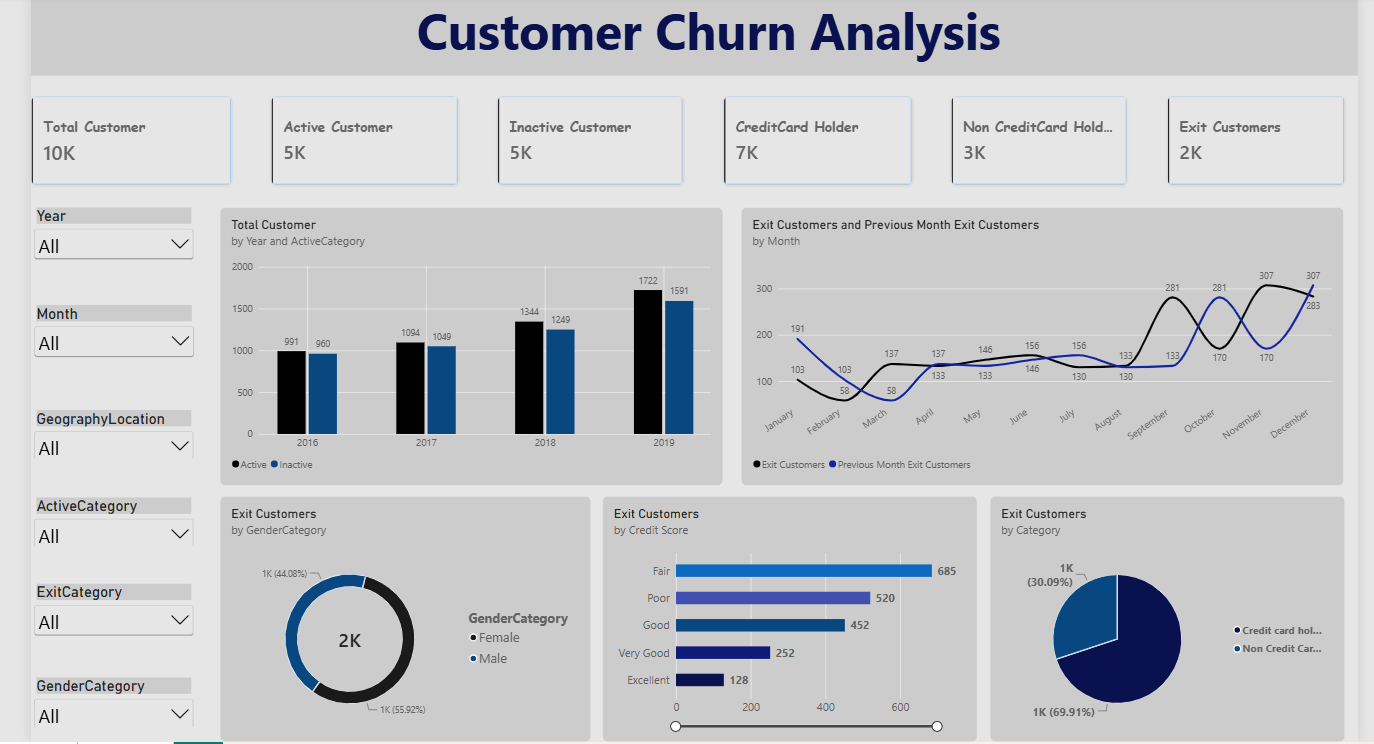

The page's visual inventory and layout, read from the dashboard file:
{"tool":"powerbi","page":{"name":"Page 1","canvas":[1920,1080],"ordinal":0},"visuals":[{"type":"textbox","box":[0,0,1920.4,115.3],"z":0},{"type":"cardVisual","fields":{"Data":["Calculation.Total Customer"]},"box":[0,144.1,290.2,129.7],"z":1000},{"type":"cardVisual","fields":{"Data":["Calculation.Active Customer"]},"box":[347,144.1,271.7,129.7],"z":2000},{"type":"cardVisual","fields":{"Data":["Calculation.Exit Customers"]},"box":[1644.6,144.1,257.3,129.7],"z":3000},{"type":"cardVisual","fields":{"Data":["Calculation.Non CreditCard Holder"]},"box":[1332.6,144.1,255.2,129.7],"z":4000},{"type":"cardVisual","fields":{"Data":["Calculation.CreditCard Holder"]},"box":[1002,144.1,273.8,129.7],"z":5000},{"type":"cardVisual","fields":{"Data":["Calculation.Inactive Customer"]},"box":[675.5,144.1,269.6,129.7],"z":6000},{"type":"slicer","fields":{"Values":["Date Master.Year"]},"box":[0,306.7,240,84],"z":7000},{"type":"slicer","fields":{"Values":["Date Master.Month"]},"box":[0,447.2,240.8,94.7],"z":8000},{"type":"slicer","fields":{"Values":["Geography.GeographyLocation"]},"box":[0,598.4,240,70],"z":9000},{"type":"slicer","fields":{"Values":["ActiveCustomer.ActiveCategory"]},"box":[0,724.9,240,70],"z":10000},{"type":"slicer","fields":{"Values":["Exit Customer.ExitCategory"]},"box":[0,851.4,240,78],"z":11000},{"type":"slicer","fields":{"Values":["Gender.GenderCategory"]},"box":[0,985.9,240,72],"z":12000},{"type":"clusteredColumnChart","fields":{"Category":["Date Master.Year"],"Y":["Calculation.Total Customer"],"Series":["ActiveCustomer.ActiveCategory"]},"box":[273.8,306.7,728.6,403.4],"z":13000},{"type":"lineChart","fields":{"Category":["Date Master.Month"],"Y":["Calculation.Exit Customers","Calculation.Previous Month Exit Customers"]},"box":[1027.1,306.7,872.7,403.4],"z":14000},{"type":"donutChart","fields":{"Category":["Gender.GenderCategory"],"Y":["Calculation.Exit Customers"]},"box":[273.8,724.5,537.2,356.1],"z":15000},{"type":"clusteredBarChart","fields":{"Category":["Bank_Churn.Credit Score"],"Y":["Calculation.Exit Customers"]},"box":[827.4,724.5,543.4,356.1],"z":16000},{"type":"pieChart","fields":{"Category":["CreditCard.Category"],"Y":["Calculation.Exit Customers"]},"box":[1387.3,724.5,514.6,356.1],"z":17000}]}

Visuals, with their boxes on the page's 1920x1080 design canvas (x1, y1, x2, y2). These are canvas units, not pixel positions in the 1374x744 screenshot, which may show the page scaled, cropped or inside an application window:
textbox: x1=0 y1=0 x2=1920 y2=115
cardVisual - Calculation.Total Customer: x1=0 y1=144 x2=290 y2=274
cardVisual - Calculation.Active Customer: x1=347 y1=144 x2=619 y2=274
cardVisual - Calculation.Exit Customers: x1=1645 y1=144 x2=1902 y2=274
cardVisual - Calculation.Non CreditCard Holder: x1=1333 y1=144 x2=1588 y2=274
cardVisual - Calculation.CreditCard Holder: x1=1002 y1=144 x2=1276 y2=274
cardVisual - Calculation.Inactive Customer: x1=676 y1=144 x2=945 y2=274
slicer - Date Master.Year: x1=0 y1=307 x2=240 y2=391
slicer - Date Master.Month: x1=0 y1=447 x2=241 y2=542
slicer - Geography.GeographyLocation: x1=0 y1=598 x2=240 y2=668
slicer - ActiveCustomer.ActiveCategory: x1=0 y1=725 x2=240 y2=795
slicer - Exit Customer.ExitCategory: x1=0 y1=851 x2=240 y2=929
slicer - Gender.GenderCategory: x1=0 y1=986 x2=240 y2=1058
clusteredColumnChart - Date Master.Year x Calculation.Total Customer: x1=274 y1=307 x2=1002 y2=710
lineChart - Date Master.Month x Calculation.Exit Customers: x1=1027 y1=307 x2=1900 y2=710
donutChart - Gender.GenderCategory x Calculation.Exit Customers: x1=274 y1=724 x2=811 y2=1081
clusteredBarChart - Bank_Churn.Credit Score x Calculation.Exit Customers: x1=827 y1=724 x2=1371 y2=1081
pieChart - CreditCard.Category x Calculation.Exit Customers: x1=1387 y1=724 x2=1902 y2=1081
